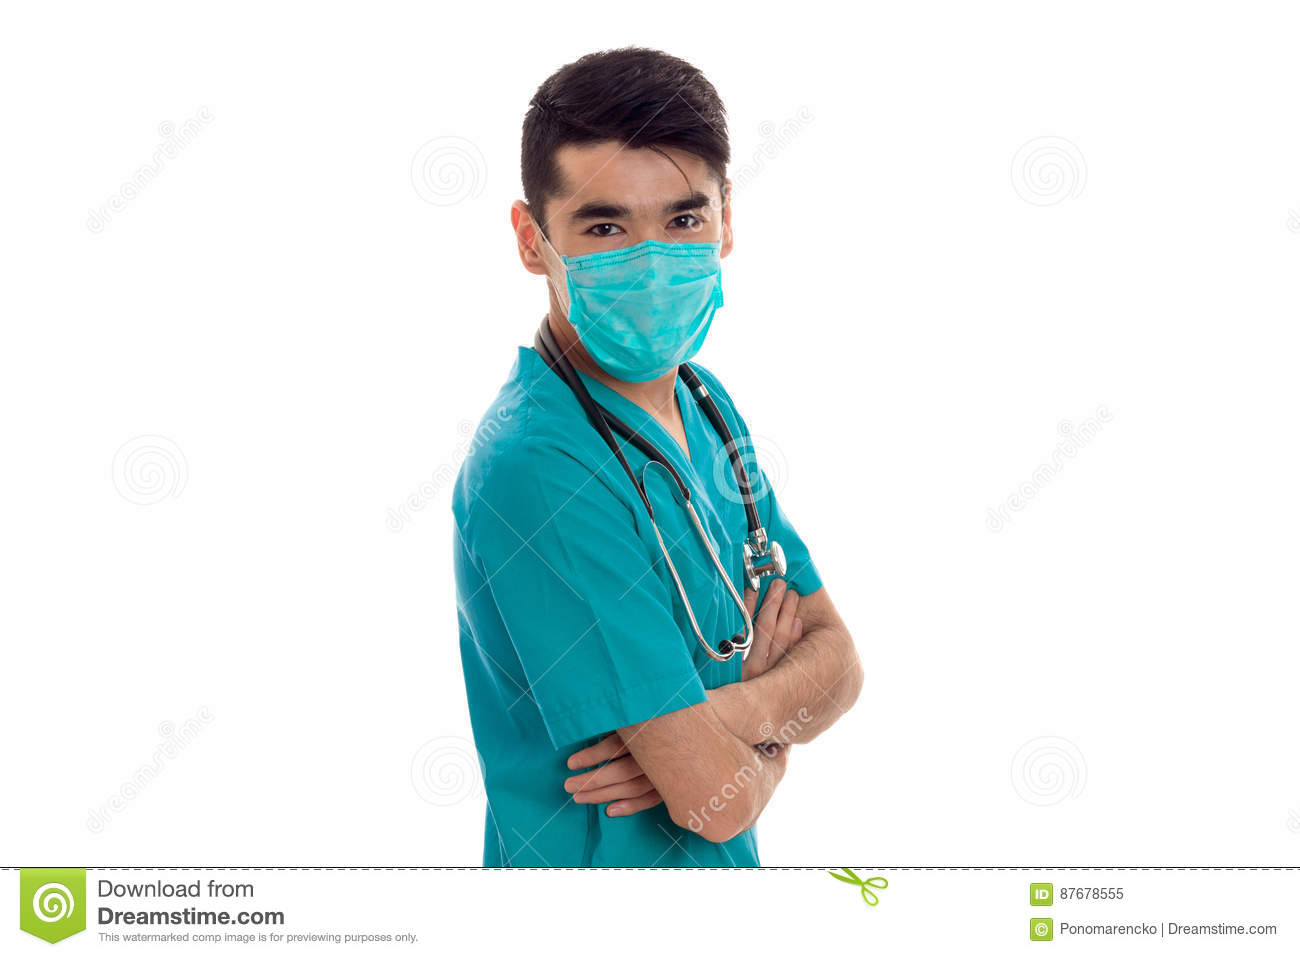mask: (566, 244, 729, 366)
